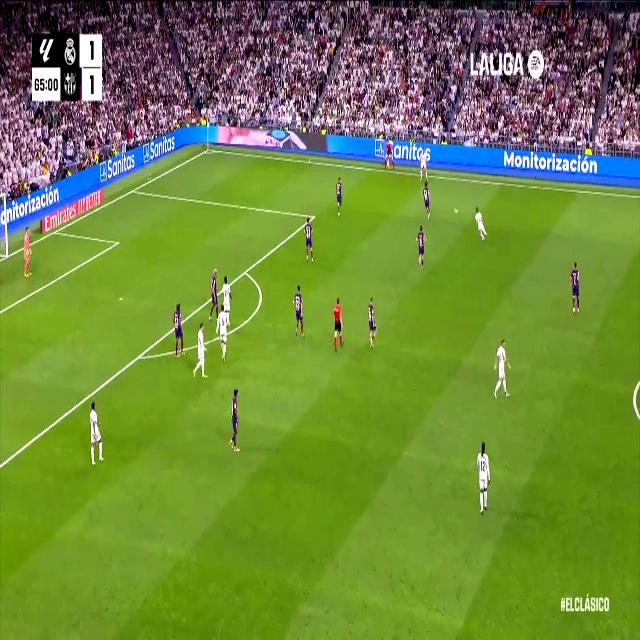bigarea_bottom_inner: (0, 452, 6, 477)
bigarea_top_inner: (310, 210, 316, 223)
bigarea_top_outter: (131, 183, 137, 196)
bottom_arc_area_intersection: (134, 346, 144, 366)
corner: (203, 143, 213, 155)
smallarea_top_inner: (114, 236, 120, 248)
top_arc_area_intersection: (241, 262, 249, 278)
